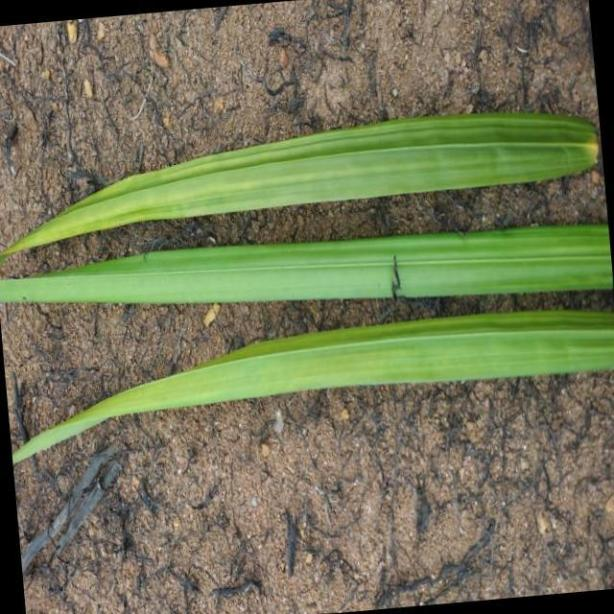nitrogen: (0, 302, 614, 469), (5, 109, 614, 256), (0, 224, 614, 299)
